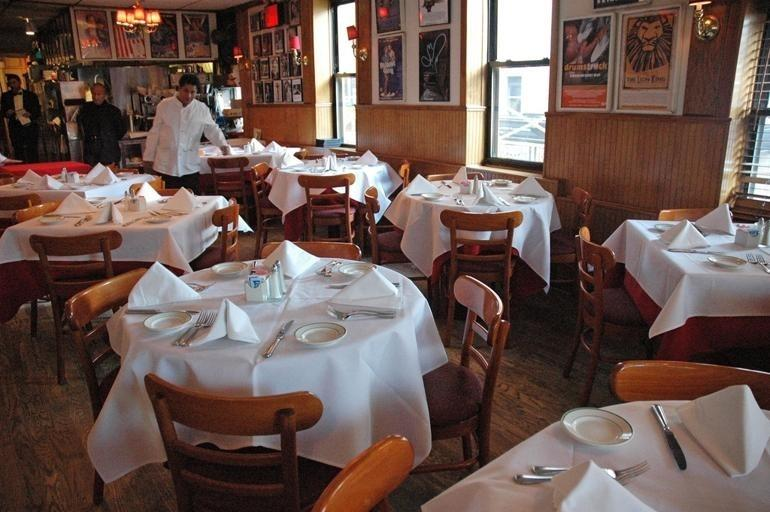clean: (114, 239, 426, 464), (472, 357, 770, 512), (394, 157, 579, 277), (621, 193, 770, 334), (24, 183, 239, 272), (272, 137, 407, 223)
